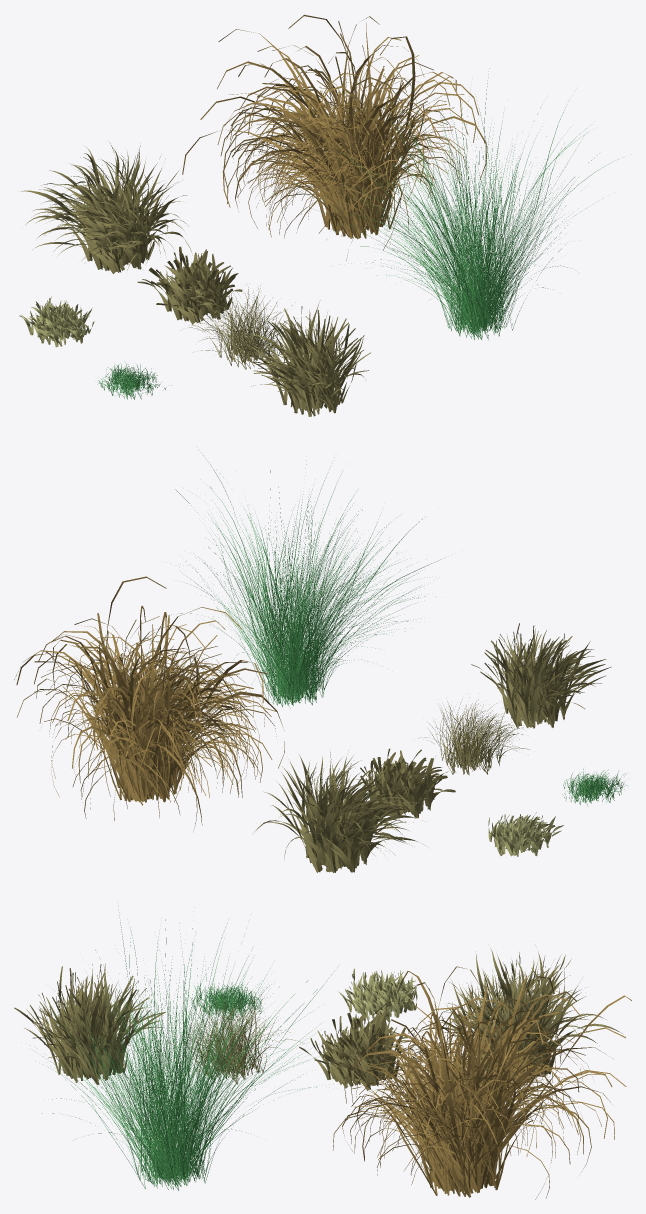
Rendered from uploads_files_4153833_Grass+Collections.fbx.
3 views of the same model, one above another, from view 1: azimuth 30°, elevation 25°; view 2: azimuth 150°, elevation 25°; view 3: azimuth 270°, elevation 25° (orthographic). The views are drawn at different scales.
Visible parts, largest first — view 1: Grass_Type_4_grassOrnament1Main8, Grass_Type_4_grassOrnament1Main7, Grass_Type_4_grassOrnament1Main1, Grass_Type_4_grassOrnament1Main3, Grass_Type_4_grassOrnament1Main, Grass_Type_4_grassOrnament1Main2, Grass_Type_4_grassOrnament1Main4, Grass_Type_4_grassOrnament1Main6; view 2: Grass_Type_4_grassOrnament1Main8, Grass_Type_4_grassOrnament1Main7, Grass_Type_4_grassOrnament1Main1, Grass_Type_4_grassOrnament1Main3, Grass_Type_4_grassOrnament1Main, Grass_Type_4_grassOrnament1Main2, Grass_Type_4_grassOrnament1Main4, Grass_Type_4_grassOrnament1Main6; view 3: Grass_Type_4_grassOrnament1Main8, Grass_Type_4_grassOrnament1Main7, Grass_Type_4_grassOrnament1Main3, Grass_Type_4_grassOrnament1Main1, Grass_Type_4_grassOrnament1Main, Grass_Type_4_grassOrnament1Main2, Grass_Type_4_grassOrnament1Main4, Grass_Type_4_grassOrnament1Main6.
Part boxes in pixels (x1=…): Grass_Type_4_grassOrnament1Main8: x1=182, y1=14, x2=486, y2=260; Grass_Type_4_grassOrnament1Main7: x1=321, y1=68, x2=618, y2=339; Grass_Type_4_grassOrnament1Main1: x1=21, y1=142, x2=192, y2=273; Grass_Type_4_grassOrnament1Main3: x1=244, y1=300, x2=370, y2=416; Grass_Type_4_grassOrnament1Main: x1=137, y1=246, x2=242, y2=324; Grass_Type_4_grassOrnament1Main2: x1=186, y1=284, x2=295, y2=369; Grass_Type_4_grassOrnament1Main4: x1=19, y1=296, x2=94, y2=347; Grass_Type_4_grassOrnament1Main6: x1=97, y1=364, x2=171, y2=399; Grass_Type_4_grassOrnament1Main8: x1=14, y1=576, x2=284, y2=830; Grass_Type_4_grassOrnament1Main7: x1=171, y1=449, x2=441, y2=708; Grass_Type_4_grassOrnament1Main1: x1=252, y1=752, x2=428, y2=872; Grass_Type_4_grassOrnament1Main3: x1=471, y1=623, x2=611, y2=728; Grass_Type_4_grassOrnament1Main: x1=360, y1=748, x2=455, y2=817; Grass_Type_4_grassOrnament1Main2: x1=418, y1=697, x2=529, y2=775; Grass_Type_4_grassOrnament1Main4: x1=488, y1=812, x2=563, y2=856; Grass_Type_4_grassOrnament1Main6: x1=562, y1=768, x2=628, y2=805; Grass_Type_4_grassOrnament1Main8: x1=332, y1=966, x2=631, y2=1199; Grass_Type_4_grassOrnament1Main7: x1=33, y1=902, x2=337, y2=1190; Grass_Type_4_grassOrnament1Main3: x1=14, y1=963, x2=165, y2=1084; Grass_Type_4_grassOrnament1Main1: x1=420, y1=945, x2=622, y2=1086; Grass_Type_4_grassOrnament1Main: x1=299, y1=1009, x2=418, y2=1090; Grass_Type_4_grassOrnament1Main2: x1=166, y1=992, x2=303, y2=1084; Grass_Type_4_grassOrnament1Main4: x1=338, y1=968, x2=417, y2=1022; Grass_Type_4_grassOrnament1Main6: x1=190, y1=982, x2=267, y2=1020.
Size of the model in its own units: 3.86 by 1.82 by 3.88.
